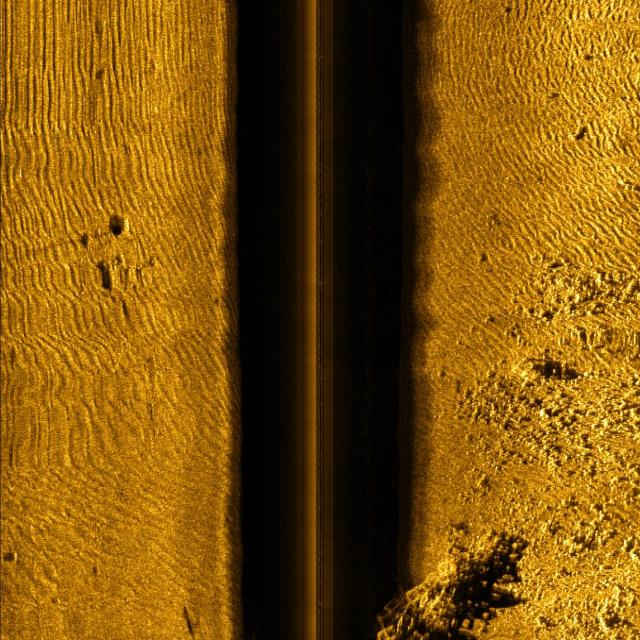artificial reef: (374, 568, 481, 640), (373, 575, 462, 640)
